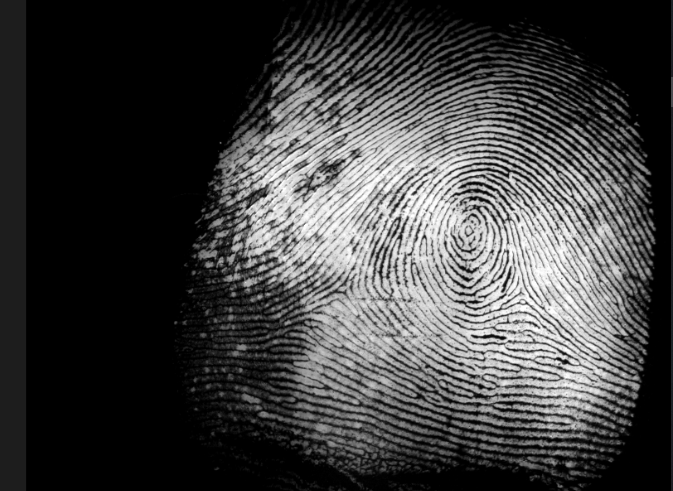nucelo: (451, 209, 484, 253)
verticilo: (500, 279, 541, 311), (324, 276, 363, 307)
